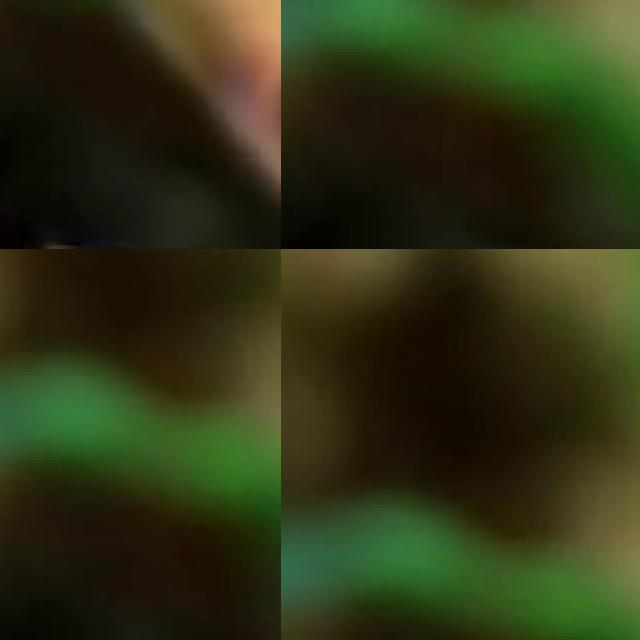fish: (0, 0, 281, 249), (281, 140, 640, 249)
